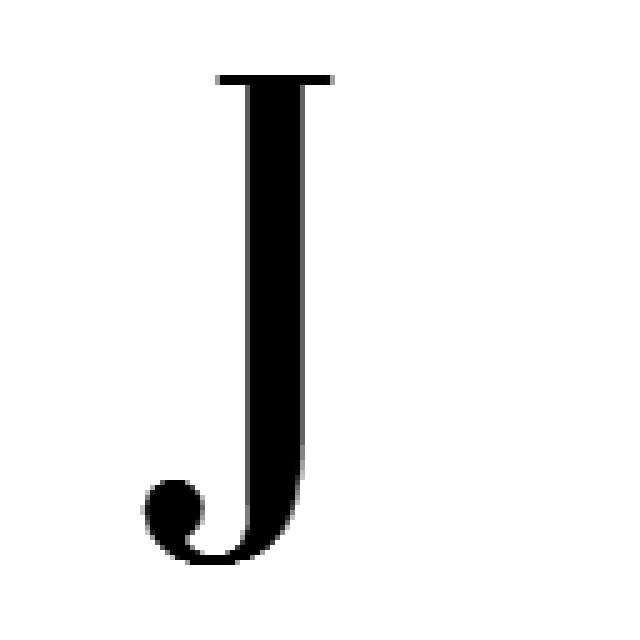J: (135, 65, 335, 570)
